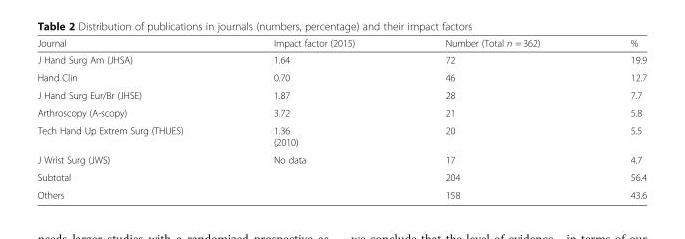table: (36, 37, 646, 200)
table column: (36, 37, 227, 200), (399, 37, 584, 200), (227, 37, 399, 200), (584, 37, 646, 200)
table column header: (36, 37, 646, 51)
table row: (36, 121, 646, 150), (36, 85, 646, 103), (36, 103, 646, 121), (36, 150, 646, 168), (36, 51, 646, 68), (36, 68, 646, 85), (36, 168, 646, 185), (36, 185, 646, 200), (36, 37, 646, 51)
